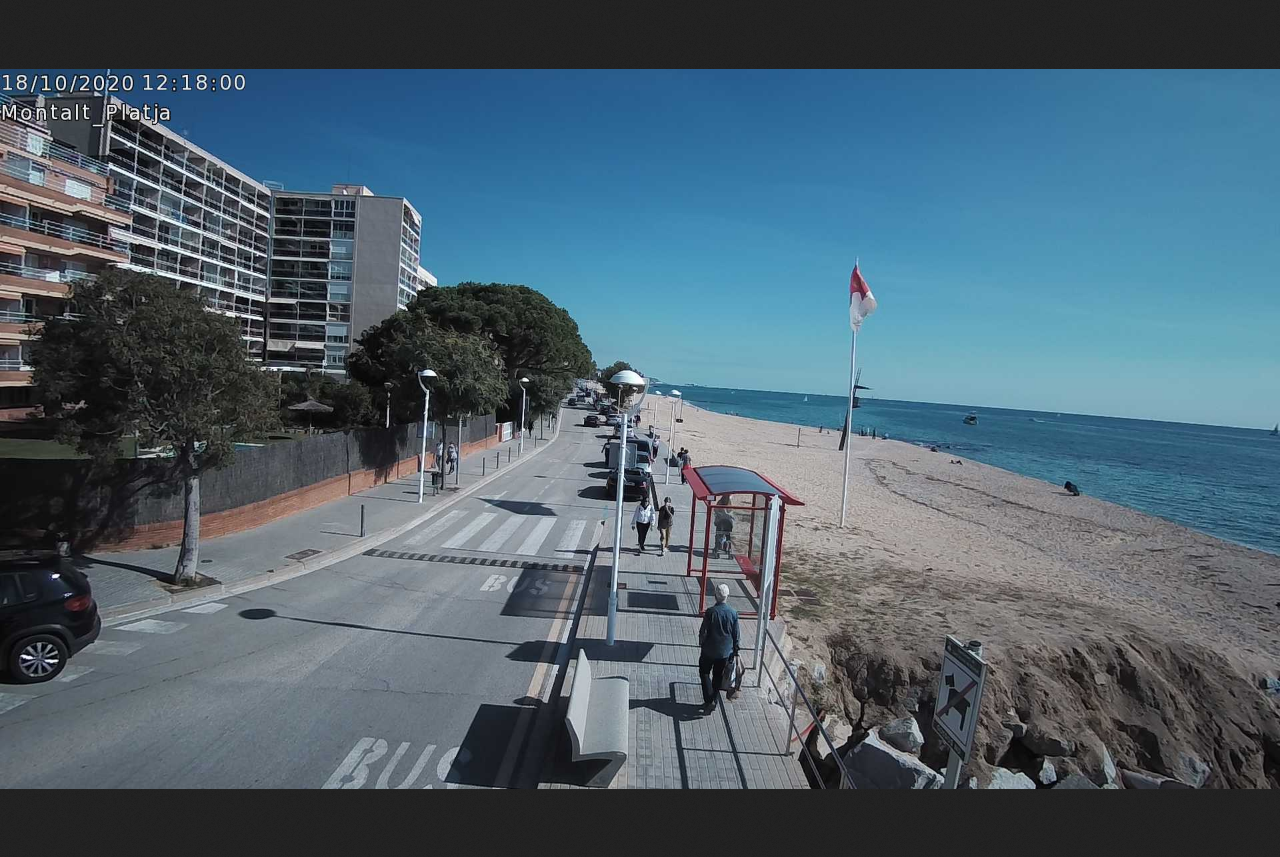no: (847, 262, 880, 334)
